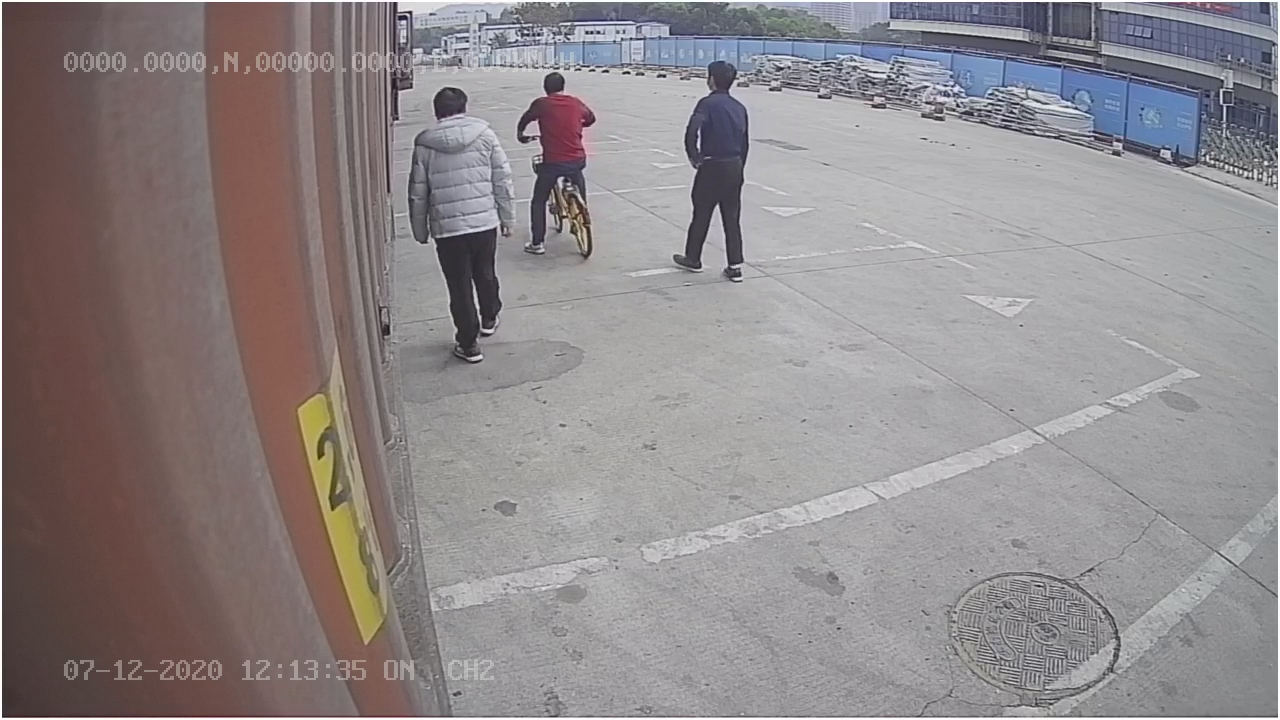person: (408, 84, 515, 362), (669, 55, 754, 286)
